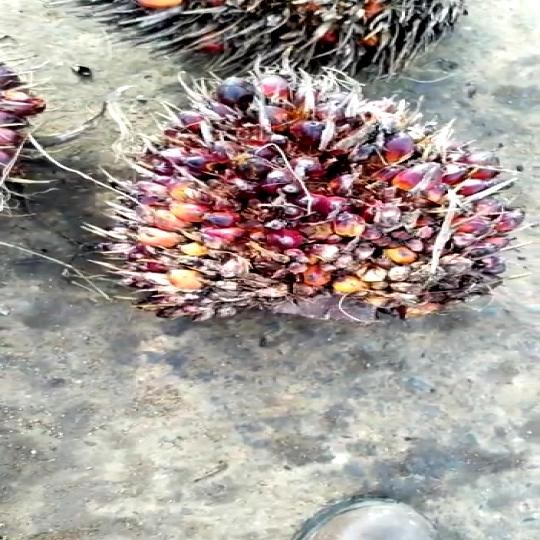masak: (98, 67, 523, 326)
